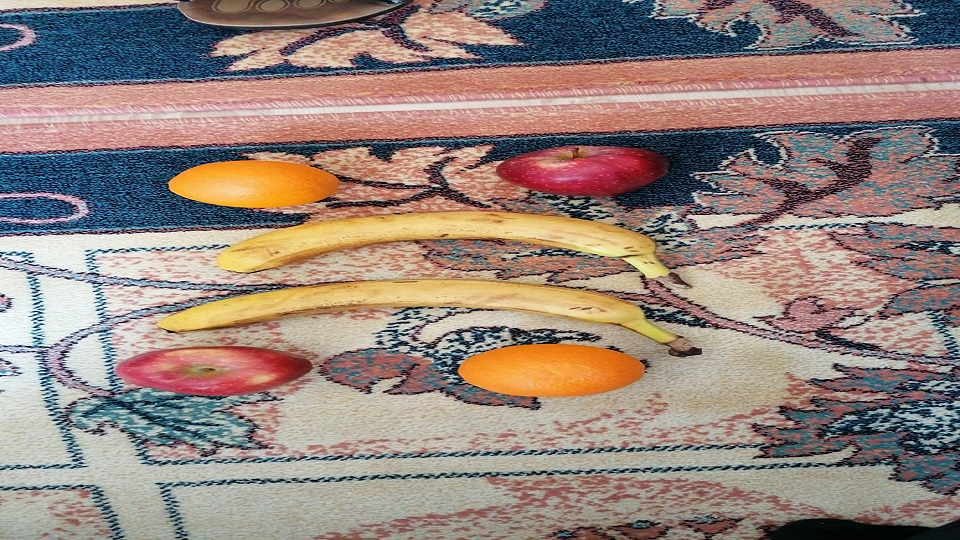elma: (114, 345, 314, 396), (496, 143, 671, 197)
muz: (157, 278, 697, 342), (216, 209, 678, 283)
portakal: (458, 343, 648, 397), (167, 160, 342, 209)
